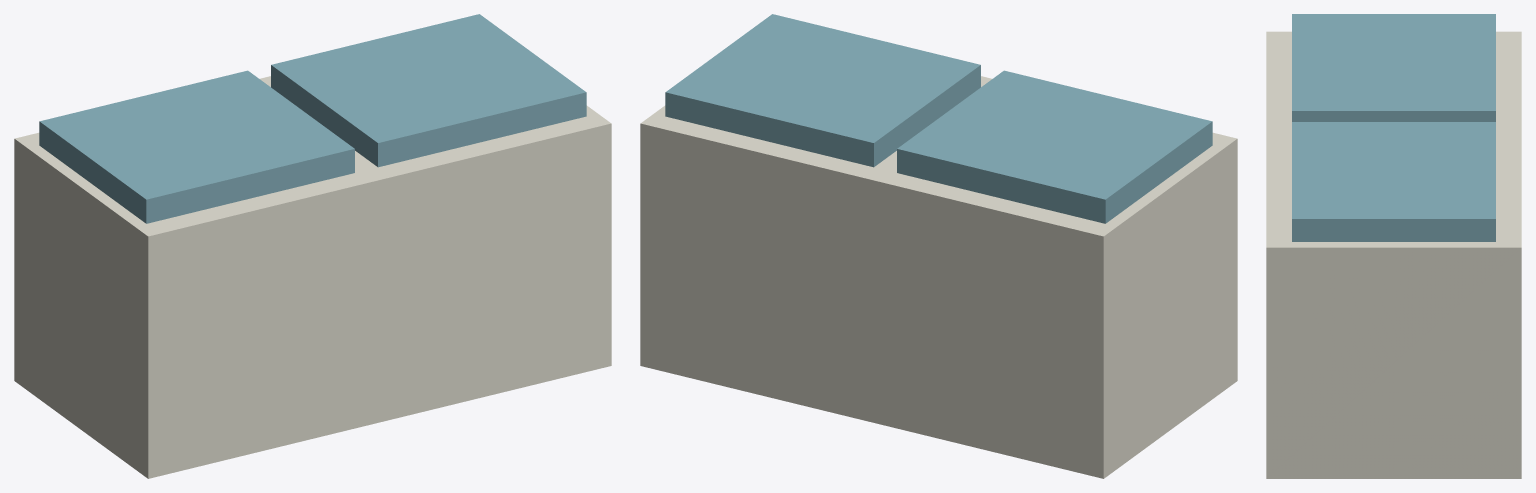
The model's file is voxel-city-districts-freezer-chest-76ab7482__24882.glb.
3 renders of one model, left to right at view 1: azimuth 30°, elevation 25°; view 2: azimuth 150°, elevation 25°; view 3: azimuth 270°, elevation 25°, orthographic. The views are drawn at different scales.
Parts seen in each view (by area): view 1: freezer-chest-concrete, freezer-chest-glass; view 2: freezer-chest-concrete, freezer-chest-glass; view 3: freezer-chest-concrete, freezer-chest-glass.
Boxes of the visible parts, box(x1,y1,x2,y2) form: freezer-chest-concrete: box(14, 76, 611, 478); freezer-chest-glass: box(39, 14, 586, 223); freezer-chest-concrete: box(640, 76, 1237, 478); freezer-chest-glass: box(665, 14, 1212, 223); freezer-chest-concrete: box(1266, 31, 1521, 478); freezer-chest-glass: box(1292, 14, 1495, 241).
Size of the model in its own units: 2 by 1.1 by 1.
